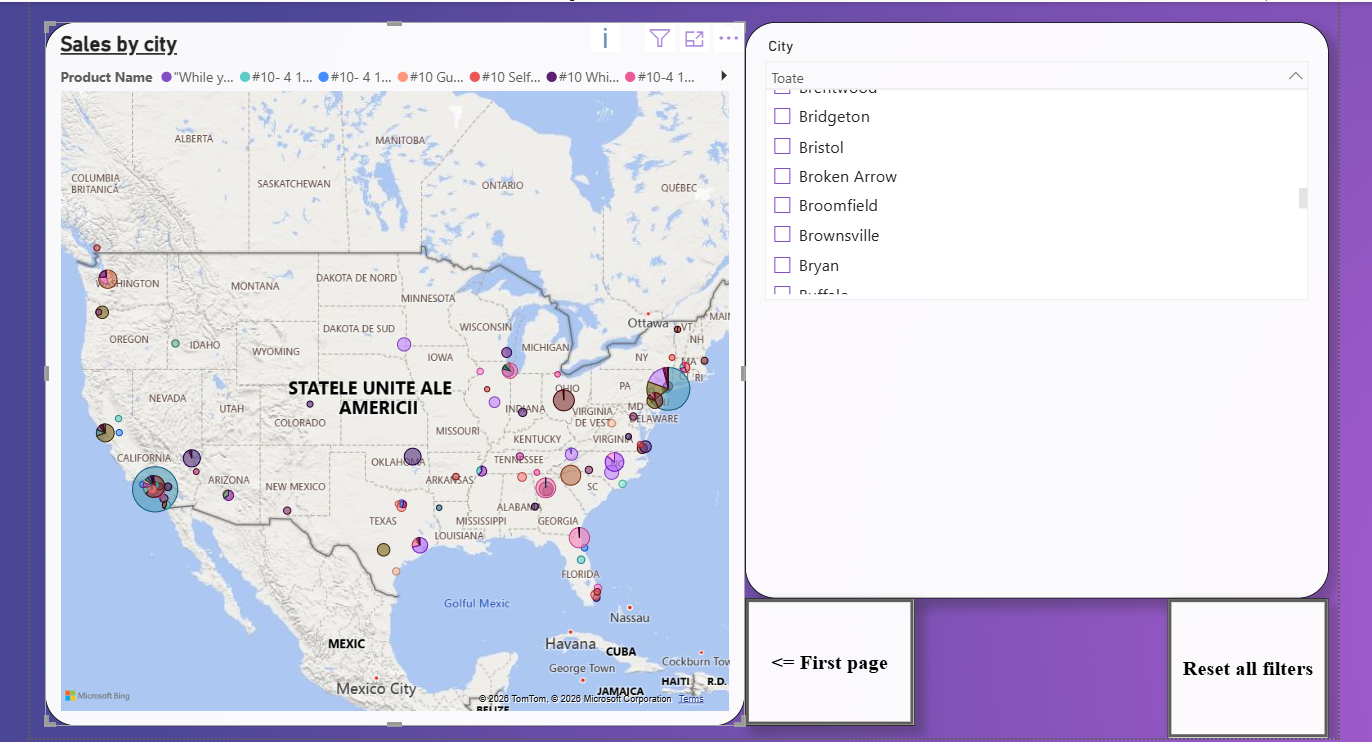

The dashboard page shown, as its layout file describes it:
{"tool":"powerbi","page":{"name":"Pagina 2","canvas":[1280,720],"ordinal":1},"visuals":[{"type":"map","title":"Sales by city","fields":{"Category":["Fact_Sales.City"],"Series":["Fact_Sales.Product Name"],"Size":["Sum(Fact_Sales.Sales)"]},"box":[15.1,19.2,684.7,688.9],"z":0},{"type":"slicer","fields":{"Values":["Fact_Sales.City"]},"box":[699.8,19.2,570.8,564],"z":1000},{"type":"actionButton","box":[699.8,583.2,166,124.9],"z":2000},{"type":"actionButton","box":[1112.9,583.2,157.8,137.2],"z":3000}]}

Visuals, with their boxes in screenshot pixels (x1, y1, x2, y2):
"Sales by city" map: 44,20,741,721
slicer - Fact_Sales.City: 741,20,1322,594
actionButton: 741,594,910,721
actionButton: 1161,594,1322,733
